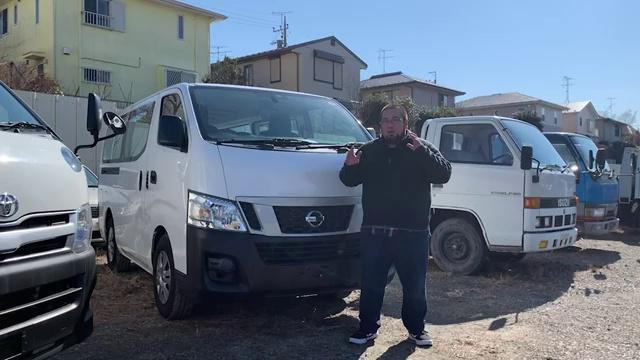Van: (113, 81, 394, 308)
